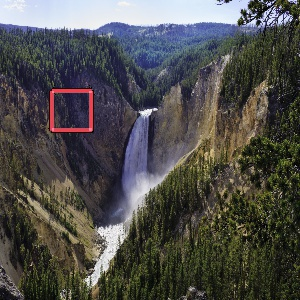square: (48, 87, 95, 134)
